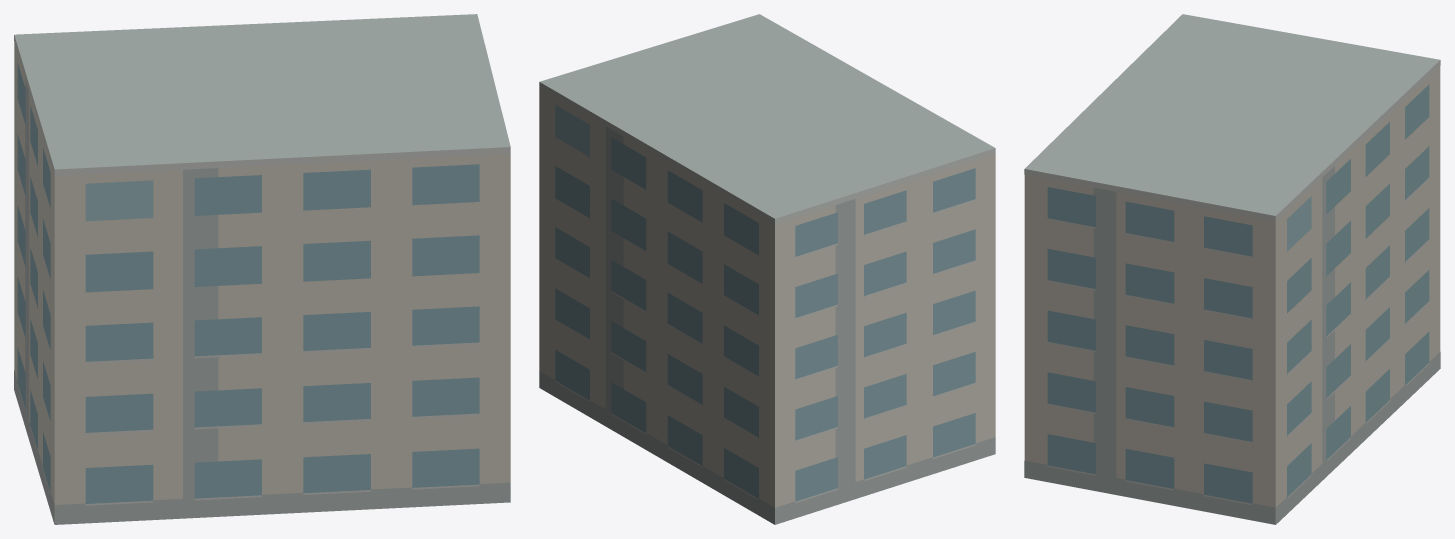
File: survey-upis-32571760.glb
3 views of the same model, side by side, from view 1: azimuth 30°, elevation 25°; view 2: azimuth 150°, elevation 25°; view 3: azimuth 270°, elevation 25° (orthographic). The views are drawn at different scales.
Parts seen in each view (by area): view 1: survey-upis-32571760.tmp; view 2: survey-upis-32571760.tmp; view 3: survey-upis-32571760.tmp.
Part boxes in pixels (x1,y1,x2,y2): survey-upis-32571760.tmp: (14,14,510,524); survey-upis-32571760.tmp: (539,14,995,524); survey-upis-32571760.tmp: (1024,14,1440,524).
Bounding box in the file's own units: 18.45 × 13.15 × 16.06.
